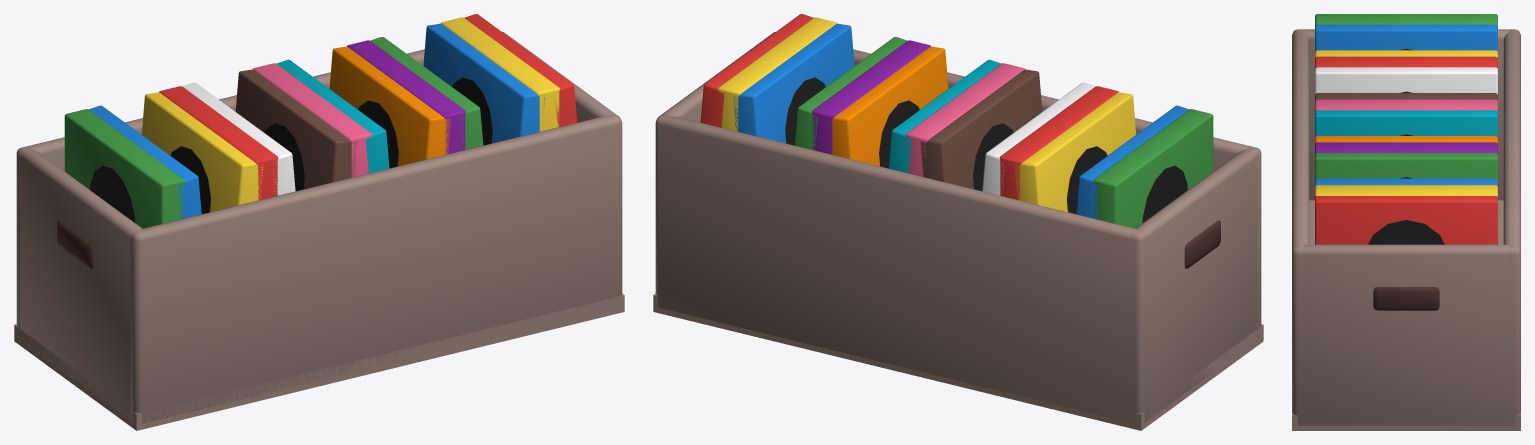
Rendered from record_crate.fbx.
3 renders of one model, left to right at view 1: azimuth 30°, elevation 25°; view 2: azimuth 150°, elevation 25°; view 3: azimuth 270°, elevation 25°, orthographic. The views are drawn at different scales.
Visible parts, largest first — view 1: Record Crate; view 2: Record Crate; view 3: Record Crate.
Part boxes in pixels (x1,y1,x2,y2): Record Crate: [14, 14, 624, 430]; Record Crate: [653, 14, 1263, 430]; Record Crate: [1292, 14, 1520, 430].
Size of the model in its own units: 1.86 by 0.8203 by 0.8.
